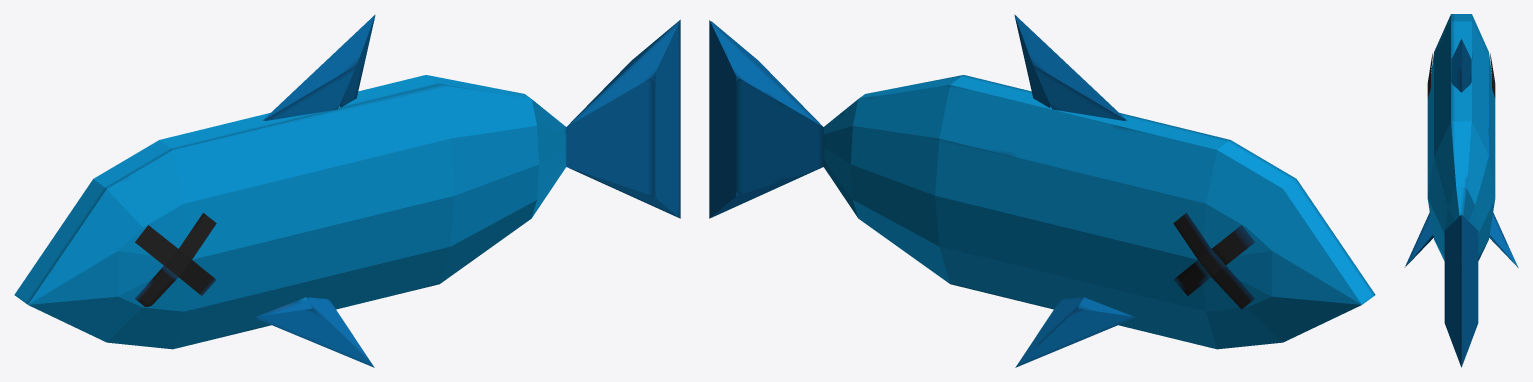
The model's file is fish.fbx.
3 views of the same model, side by side, from view 1: azimuth 30°, elevation 25°; view 2: azimuth 150°, elevation 25°; view 3: azimuth 270°, elevation 25° (orthographic). The views are drawn at different scales.
Visible parts, largest first — view 1: sphere, cuboid, cuboid_1, plane, cuboid_2; view 2: sphere, cuboid, cuboid_1, plane_1, cuboid_3; view 3: sphere, cuboid, cuboid_1, cuboid_2, cuboid_3, plane, plane_1.
Part boxes in pixels (bbox=[...]): sphere: bbox=[14, 75, 566, 349]; cuboid: bbox=[566, 19, 680, 218]; cuboid_1: bbox=[262, 14, 375, 120]; plane: bbox=[135, 213, 216, 306]; cuboid_2: bbox=[254, 297, 374, 367]; sphere: bbox=[823, 75, 1375, 349]; cuboid: bbox=[709, 20, 823, 218]; cuboid_1: bbox=[1014, 14, 1127, 121]; plane_1: bbox=[1173, 213, 1254, 309]; cuboid_3: bbox=[1015, 297, 1135, 367]; sphere: bbox=[1427, 14, 1495, 260]; cuboid: bbox=[1444, 214, 1478, 367]; cuboid_1: bbox=[1451, 39, 1471, 92]; cuboid_2: bbox=[1404, 212, 1433, 267]; cuboid_3: bbox=[1489, 212, 1518, 267]; plane: bbox=[1427, 53, 1432, 98]; plane_1: bbox=[1490, 53, 1495, 98].
Size of the model in its own units: 216 by 99.47 by 42.29.
1 material, 1 textured.
